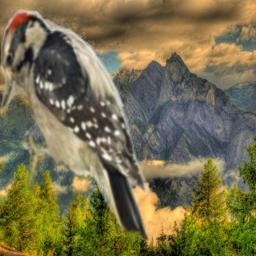Woodpecker: (1, 7, 162, 248)
